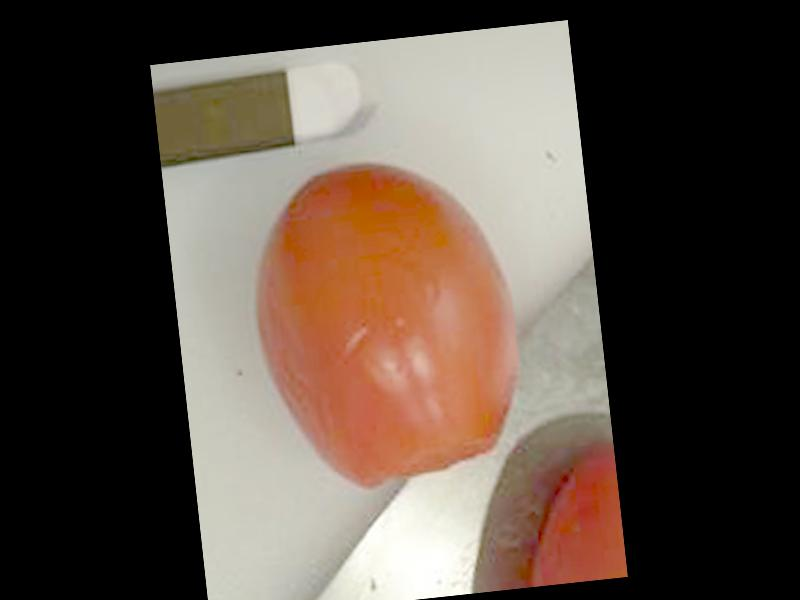Tomato: (241, 148, 533, 497)
